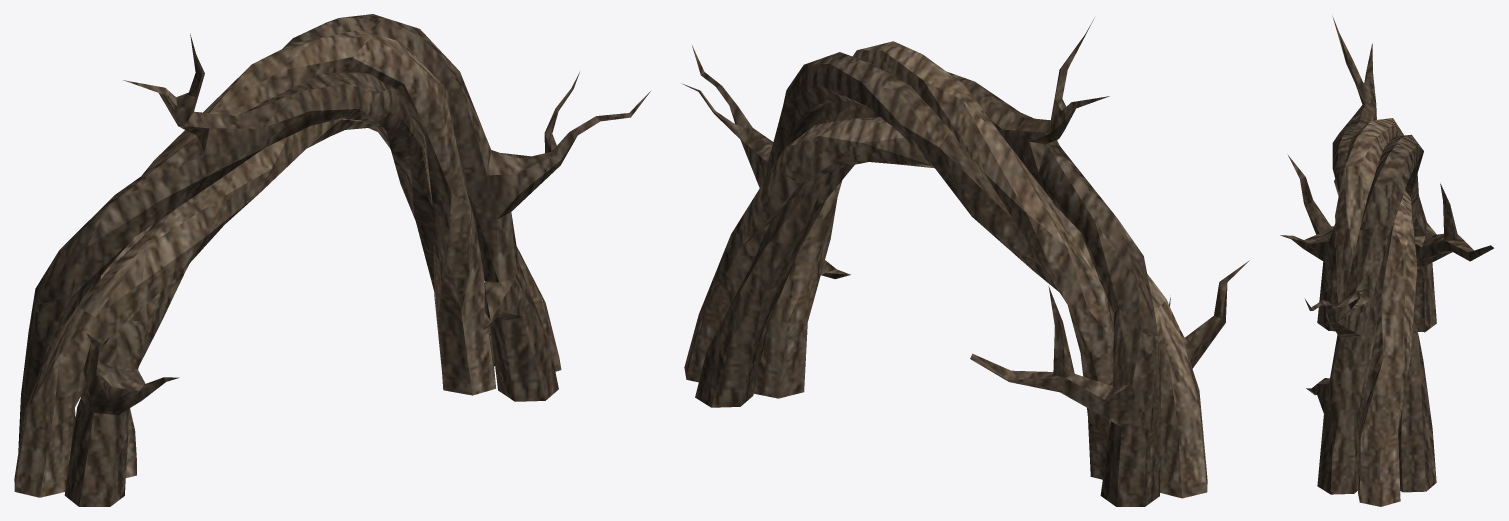
The model's file is Tree3.fbx.
3 views of the same model, side by side, from view 1: azimuth 30°, elevation 25°; view 2: azimuth 150°, elevation 25°; view 3: azimuth 270°, elevation 25° (orthographic). The views are drawn at different scales.
Parts seen in each view (by area): view 1: tree_03; view 2: tree_03; view 3: tree_03.
Part boxes in pixels (x1,y1,x2,y2): tree_03: [14, 14, 650, 506]; tree_03: [682, 18, 1249, 506]; tree_03: [1280, 16, 1493, 506].
Size of the model in its own units: 9.55 by 6.91 by 3.93.
